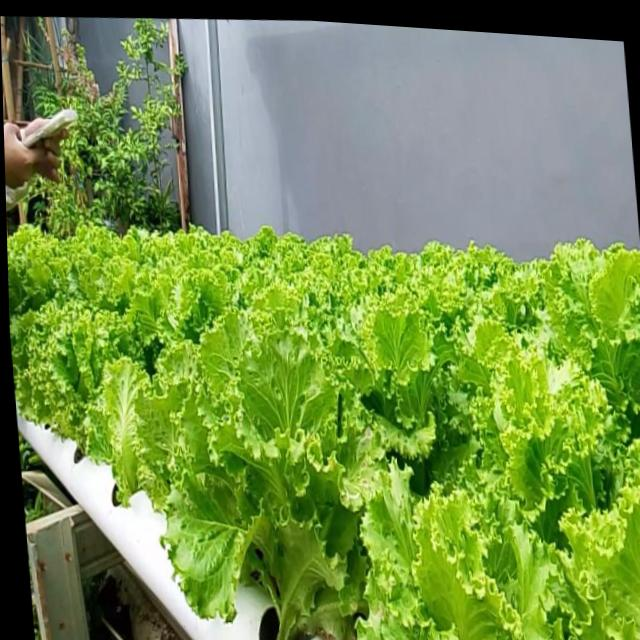Mature: (9, 228, 640, 640), (190, 346, 386, 640), (17, 273, 162, 488)
